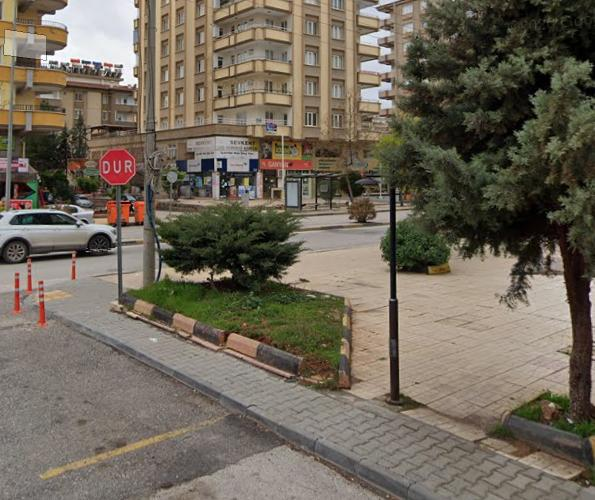stop: (100, 147, 137, 188)
